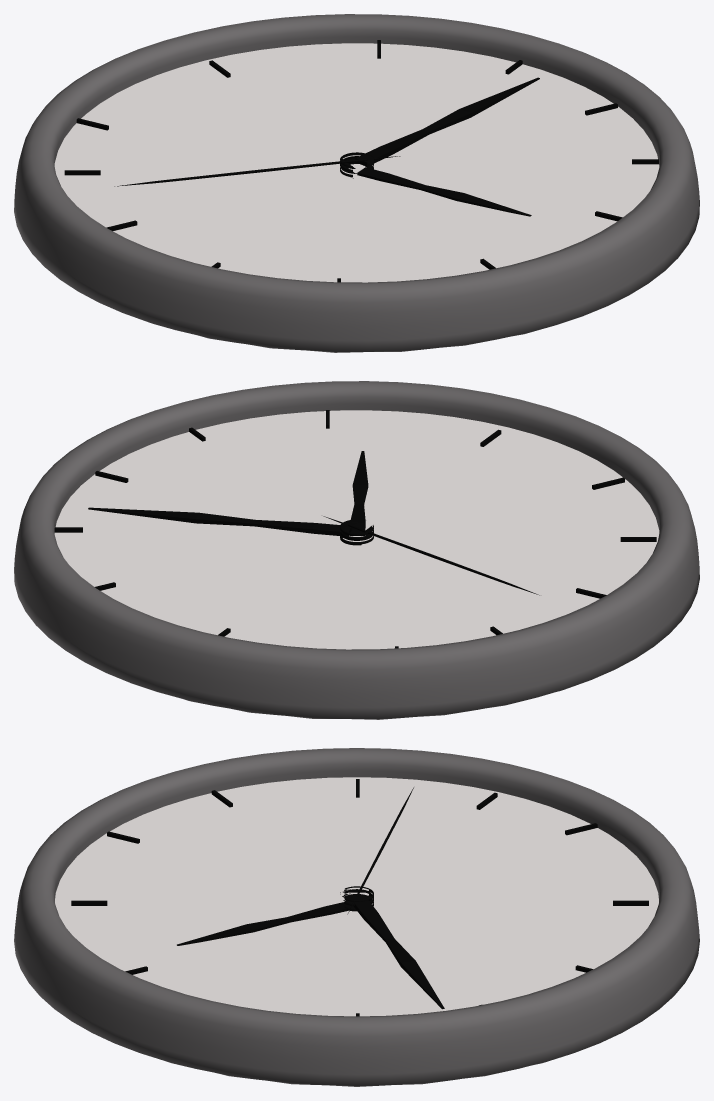
File: clock2  (2).fbx
The picture shows the model from 3 angles, top to bottom: view 1: azimuth 30°, elevation 25°; view 2: azimuth 150°, elevation 25°; view 3: azimuth 270°, elevation 25°; orthographic projection.
Visible parts, largest first — view 1: clock; view 2: clock; view 3: clock.
Part boxes in pixels (box(x1,y1,x2,y2)): clock: box(14, 14, 699, 352); clock: box(14, 381, 699, 719); clock: box(14, 748, 699, 1086).
Bounding box in the file's own units: 29.78 × 2.98 × 29.78.
